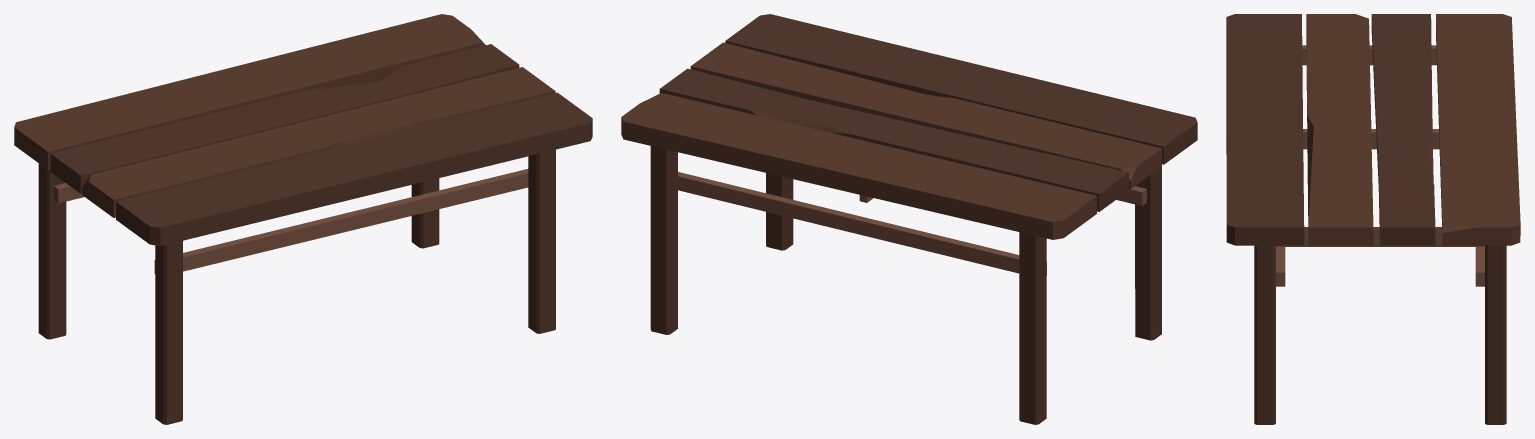
File: Table_1 Asia.fbx
3 renders of one model, left to right at view 1: azimuth 30°, elevation 25°; view 2: azimuth 150°, elevation 25°; view 3: azimuth 270°, elevation 25°, orthographic.
Visible parts, largest first — view 1: Table_1; view 2: Table_1; view 3: Table_1.
Boxes of the visible parts, left/top/right/bottom form: Table_1: left=14, top=14, right=592, bottom=424; Table_1: left=621, top=14, right=1197, bottom=424; Table_1: left=1226, top=14, right=1520, bottom=424.
Bounding box in the file's own units: 1.49 × 0.6802 × 0.8649.
